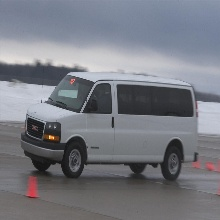no damage: (21, 71, 200, 183)
